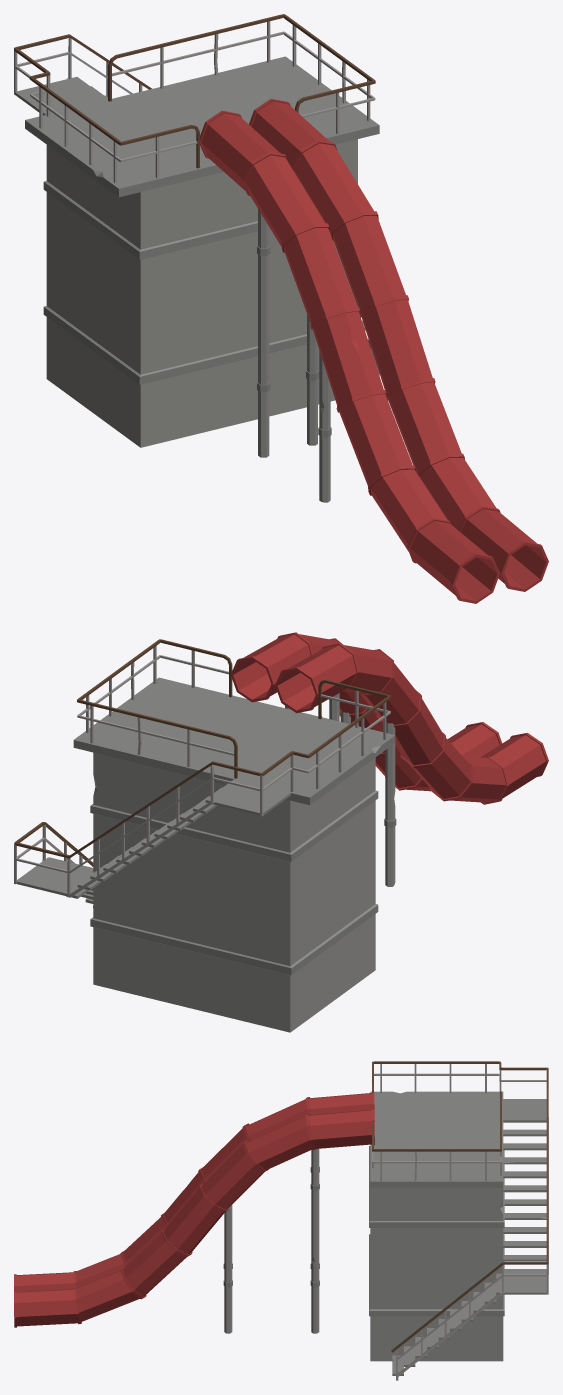
File: SM_Props_City_Beach_WaterSlide_01.fbx
3 renders of one model, top to bottom at view 1: azimuth 30°, elevation 25°; view 2: azimuth 150°, elevation 25°; view 3: azimuth 270°, elevation 25°, orthographic. The views are drawn at different scales.
Visible parts, largest first — view 1: SM_Props_City_Beach_WaterSlide_01; view 2: SM_Props_City_Beach_WaterSlide_01; view 3: SM_Props_City_Beach_WaterSlide_01.
Part boxes in pixels (x1=…): SM_Props_City_Beach_WaterSlide_01: x1=14, y1=14, x2=548, y2=603; SM_Props_City_Beach_WaterSlide_01: x1=14, y1=632, x2=548, y2=1032; SM_Props_City_Beach_WaterSlide_01: x1=14, y1=1061, x2=548, y2=1380.
Bounding box in the file's own units: 543 × 554 × 1205.
